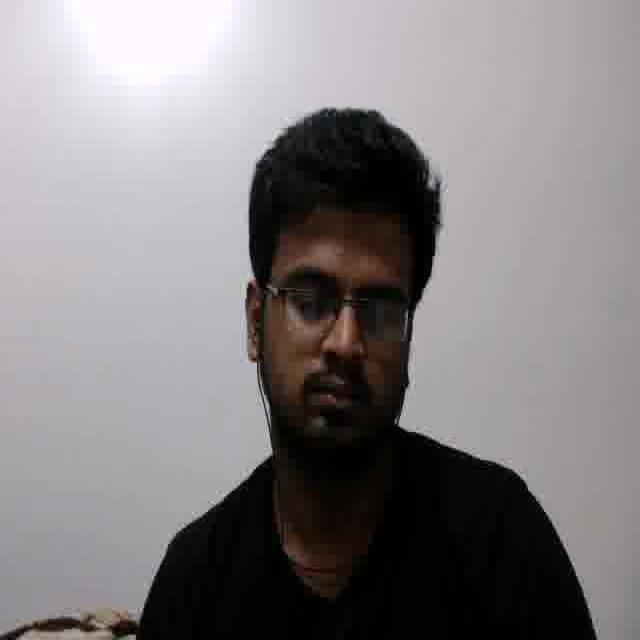Boredom: (266, 211, 408, 453)
